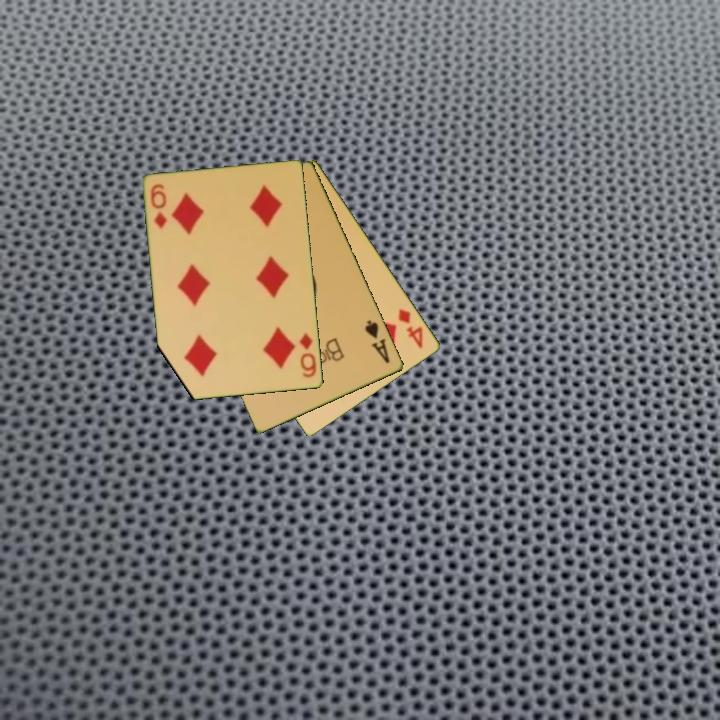4d: (395, 305, 426, 352)
6d: (296, 329, 320, 381), (147, 181, 170, 232)
As: (362, 317, 393, 367)
